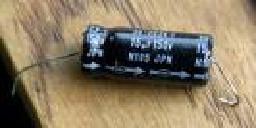Electrolytic-capacitor: (43, 22, 236, 102)
